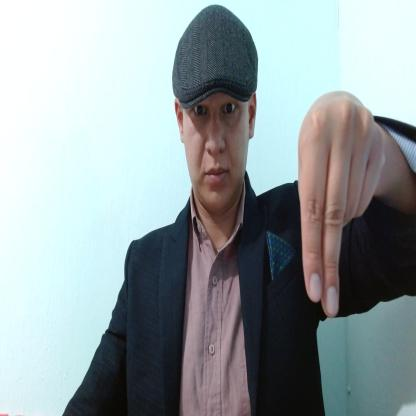N: (299, 91, 388, 318)
